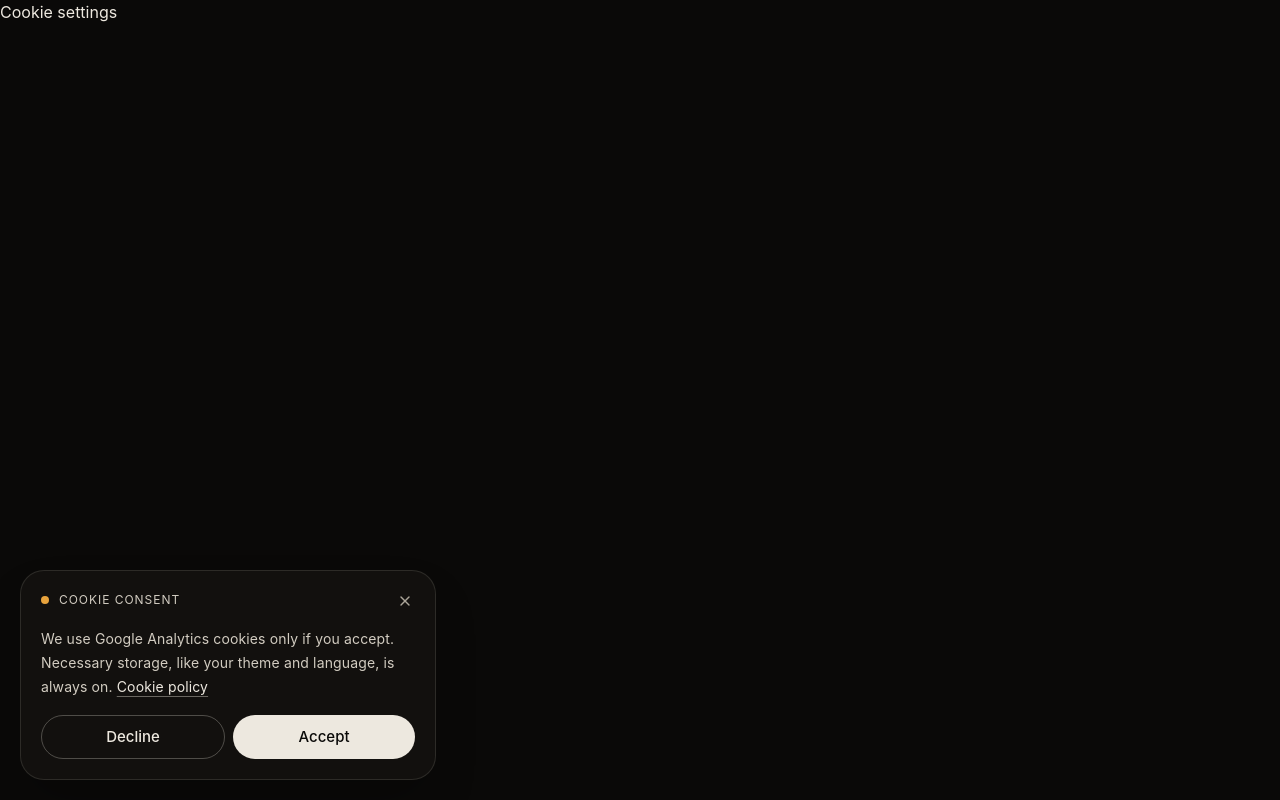
Test: cookie consent UI › settings dialog › opens from the footer button with the switch off in an opt-in region
This screenshot has width=1280, height=800.
What coordinates should you click on to do the following:
click the button "Cookie settings"
I would click on:
 (59, 12)
Its box is [0, 0, 117, 24].
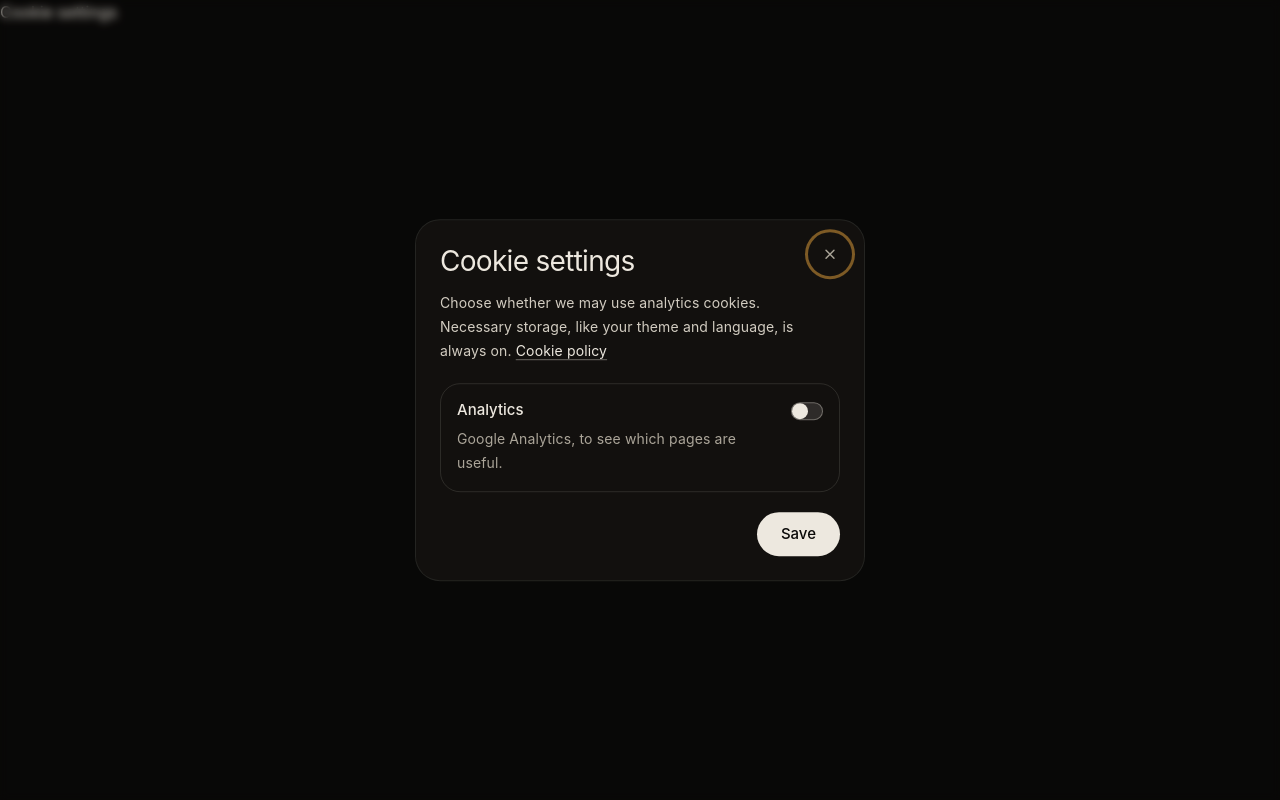
Result: the dialog "Cookie settings" is shown at [416, 220, 864, 580]
Result: the text "Choose whether we may use analytics cookies. Necessary storage, like your theme and language, is always on." is shown at [440, 294, 794, 359]
Result: the text "Google Analytics, to see which pages are useful." is shown at [457, 427, 775, 475]
